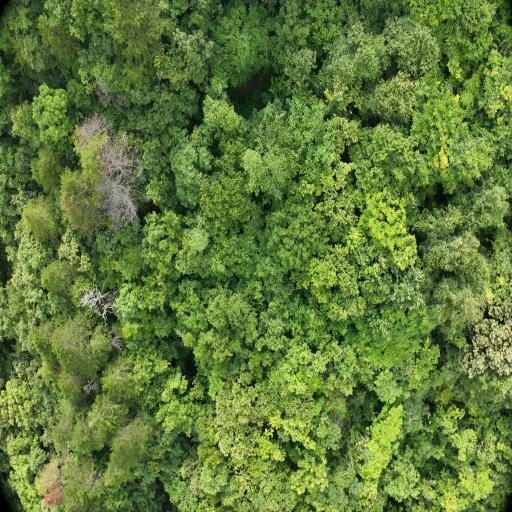dead-tree: (98, 182, 129, 216), (107, 150, 128, 178), (85, 294, 106, 308), (82, 122, 97, 135)
